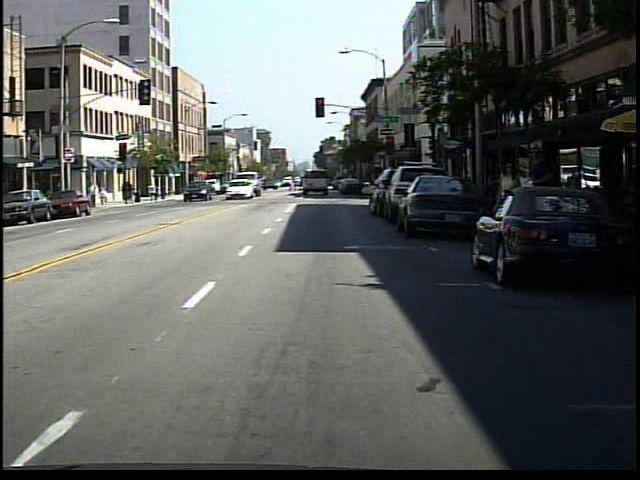person: (522, 140, 557, 257), (495, 155, 523, 254), (86, 179, 102, 209), (100, 184, 114, 210)
